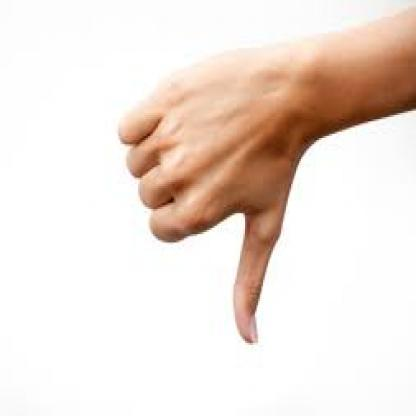thumb_down: (114, 44, 308, 346)
